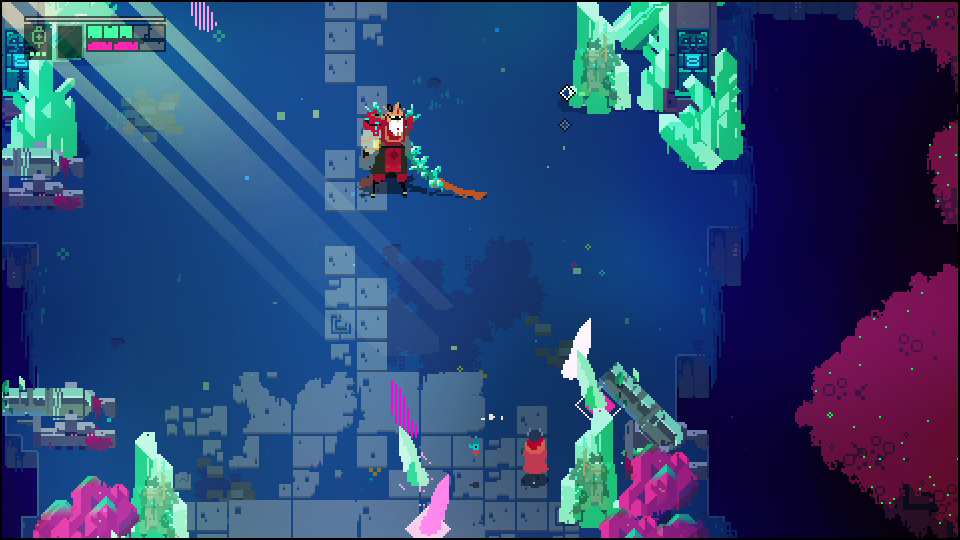hanged_crys: (573, 355, 613, 414), (418, 472, 450, 537), (399, 428, 429, 487)
hanged_man: (357, 101, 442, 191)
player: (522, 428, 550, 484)
